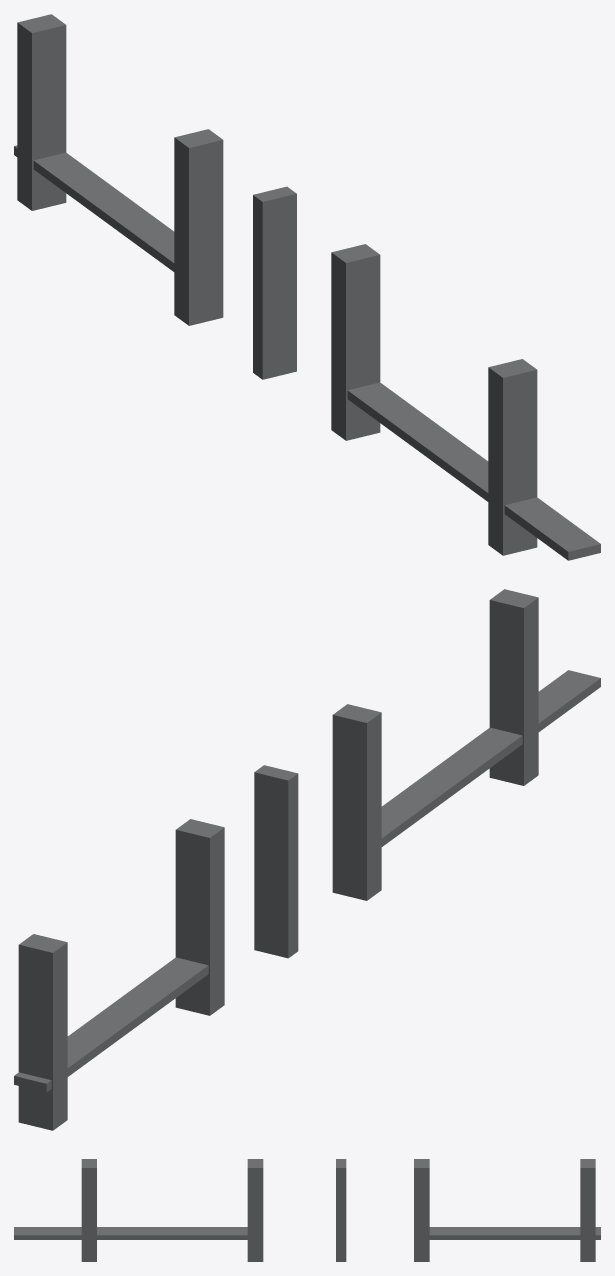
Rendered from columnaDer.obj.
3 renders of one model, top to bottom at view 1: azimuth 30°, elevation 25°; view 2: azimuth 150°, elevation 25°; view 3: azimuth 270°, elevation 25°, orthographic. The views are drawn at different scales.
Parts seen in each view (by area): view 1: Plane.021, coso_pared; view 2: Plane.021, coso_pared; view 3: Plane.021, coso_pared.
Boxes of the visible parts, <box> form: Plane.021: <box>17,14,537,555</box>; coso_pared: <box>14,145,600,560</box>; Plane.021: <box>18,589,538,1130</box>; coso_pared: <box>14,670,600,1092</box>; Plane.021: <box>81,1159,595,1261</box>; coso_pared: <box>14,1227,600,1239</box>.
Size of the model in its own units: 2.01 by 10 by 56.5.
Materials: 2 (2 with a texture image).
